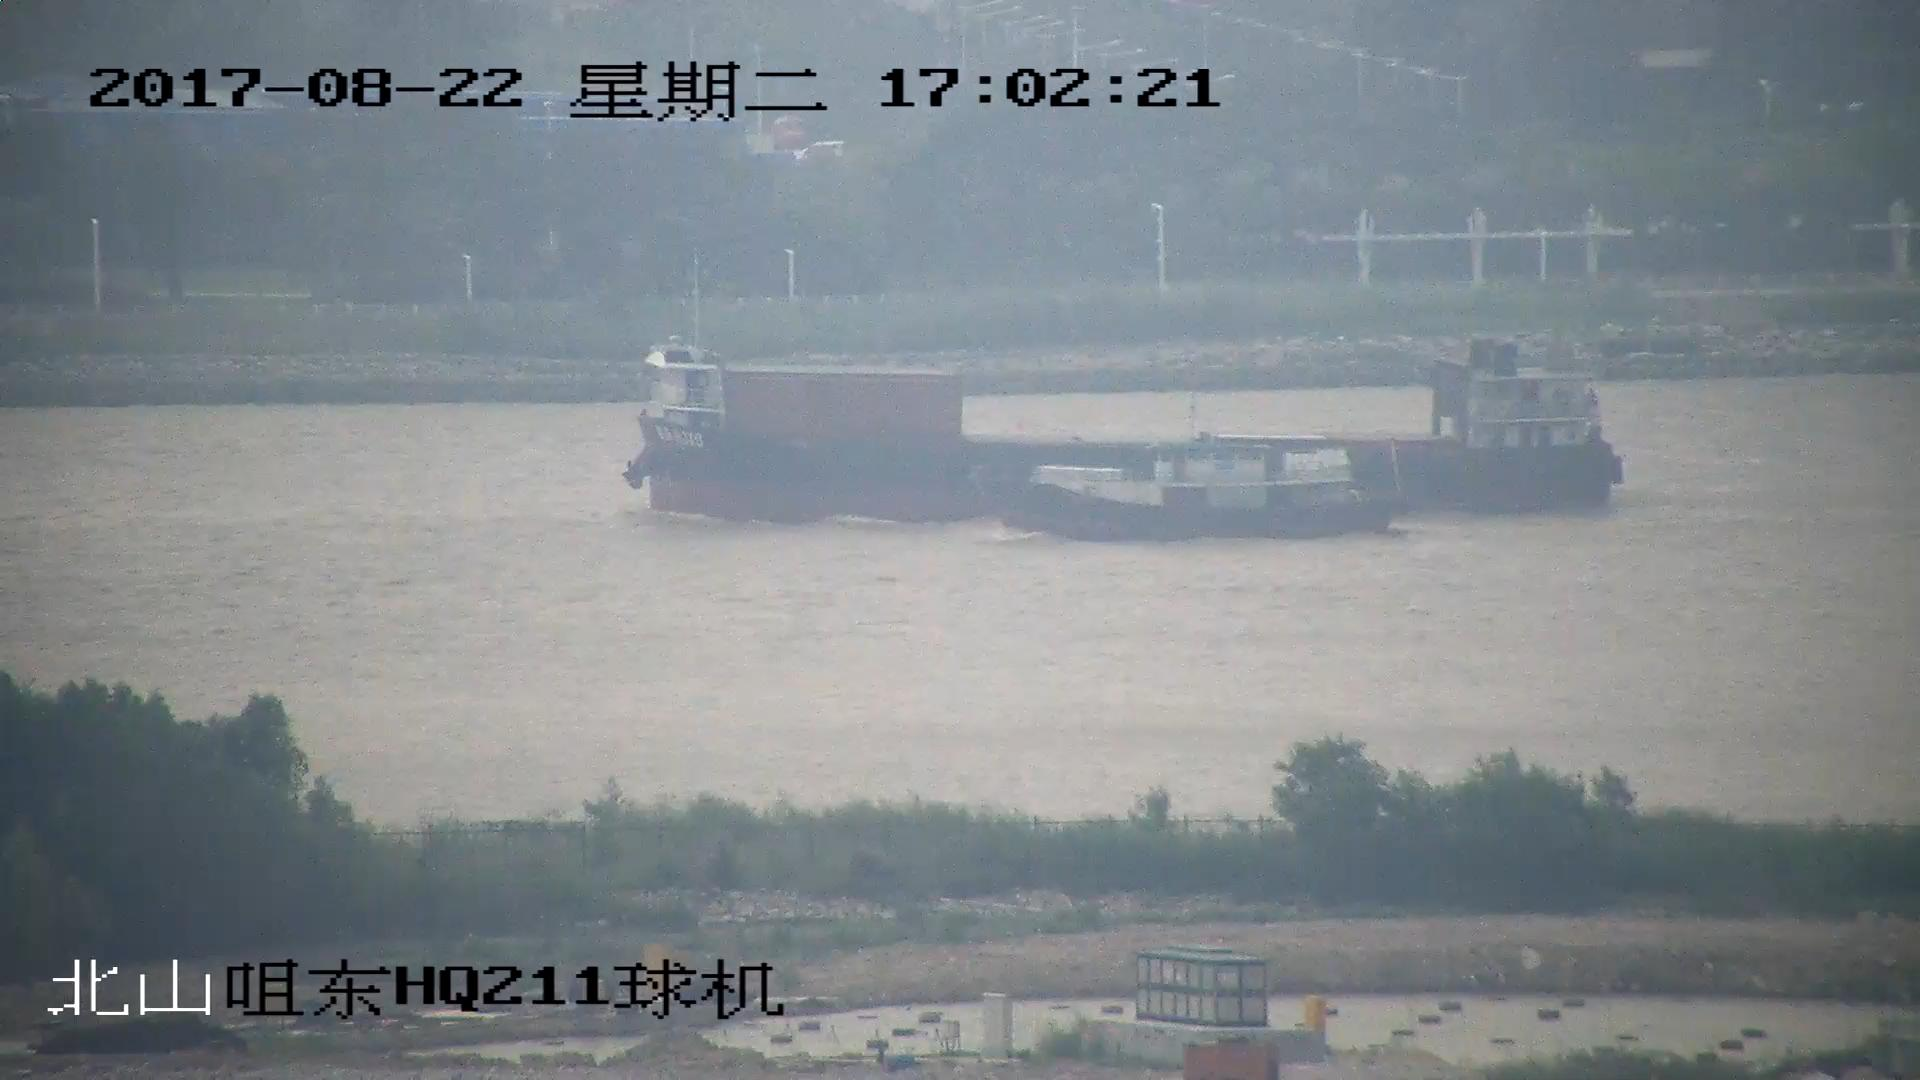fishing boat: (997, 435, 1385, 544)
general cargo ship: (618, 327, 1625, 514)
